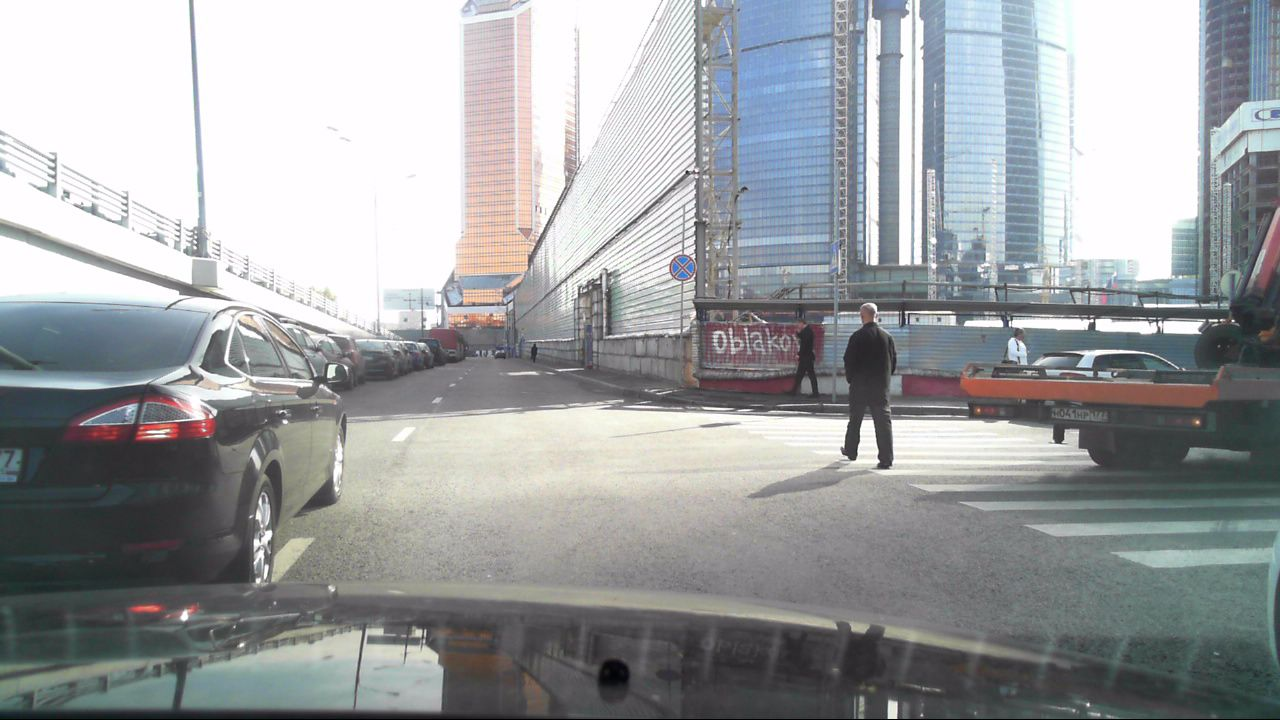No Parking: (667, 252, 697, 282)
